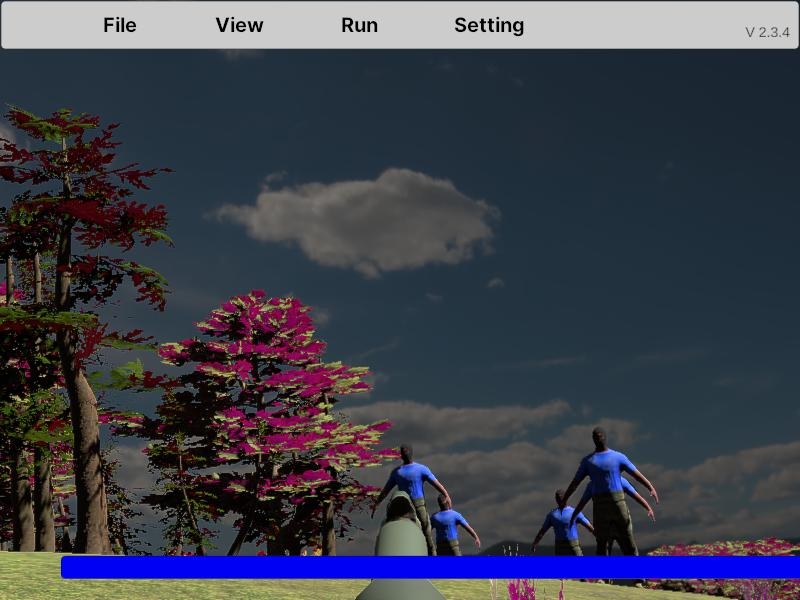Human: (559, 424, 657, 581), (371, 443, 450, 565), (531, 487, 606, 571), (424, 490, 481, 580)
